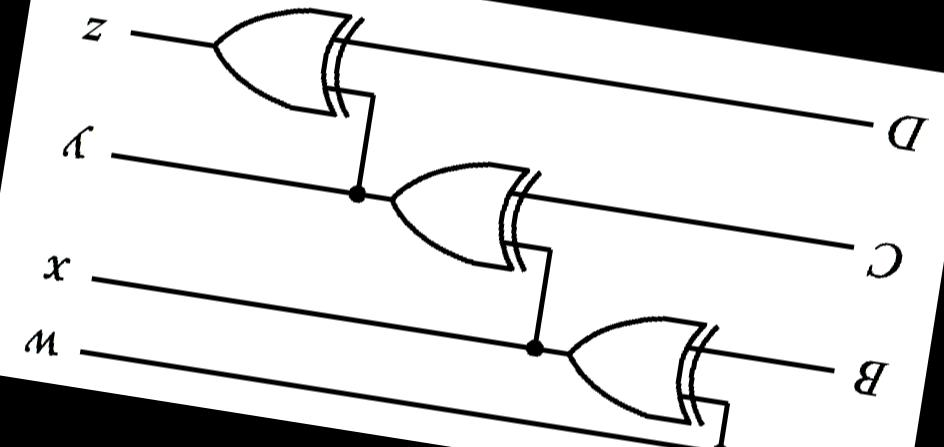xor: (364, 126, 556, 286), (544, 291, 731, 434), (187, 0, 376, 129)
